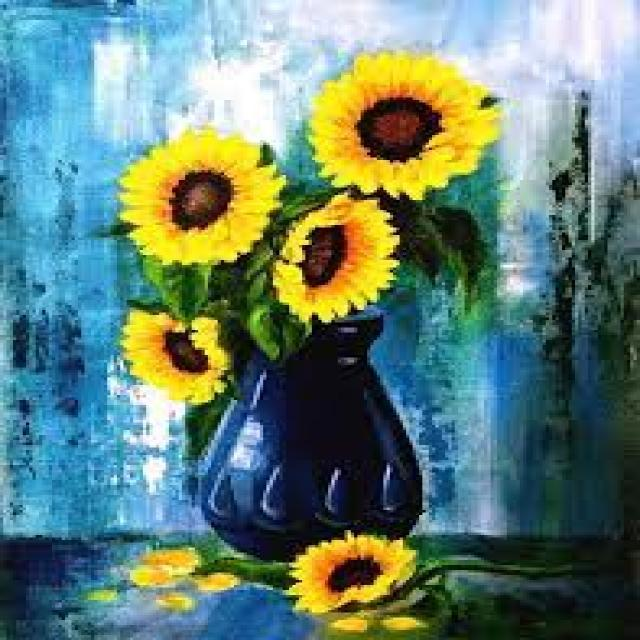sunflower: (306, 51, 500, 200), (116, 126, 286, 265), (270, 192, 400, 322), (117, 305, 231, 405), (286, 530, 416, 612)
